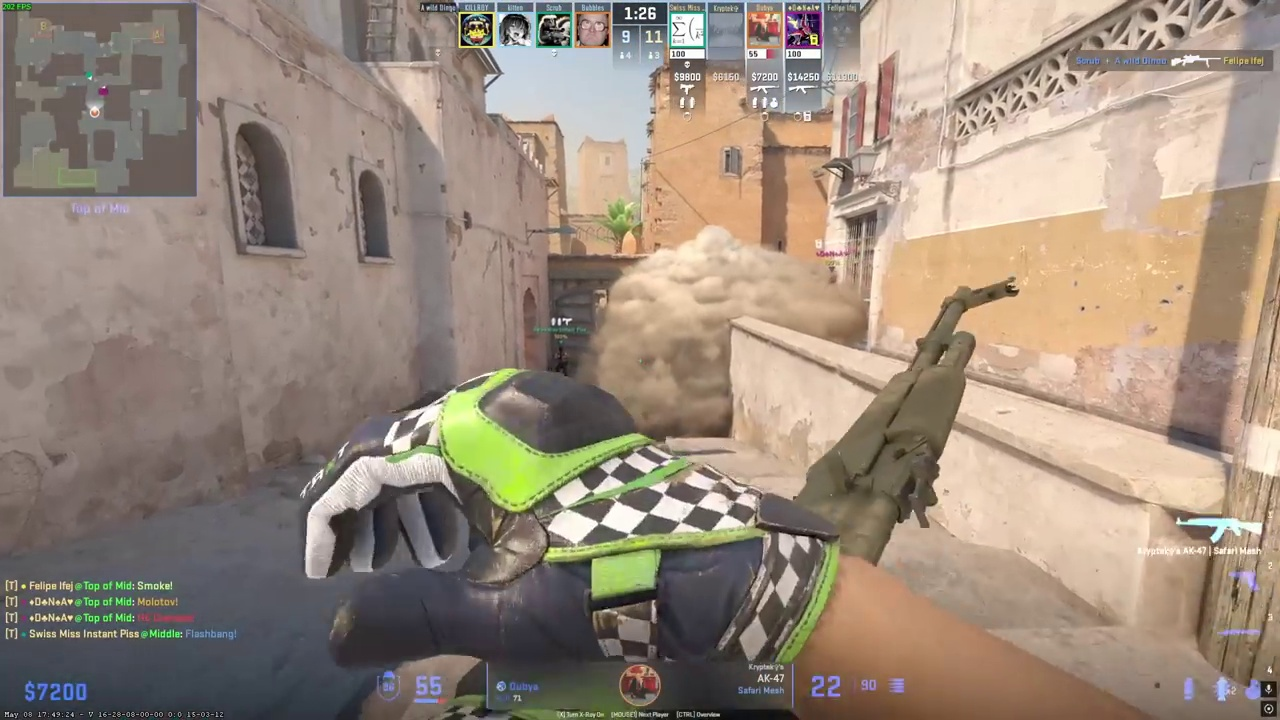Terrorist: (554, 347, 569, 376)
